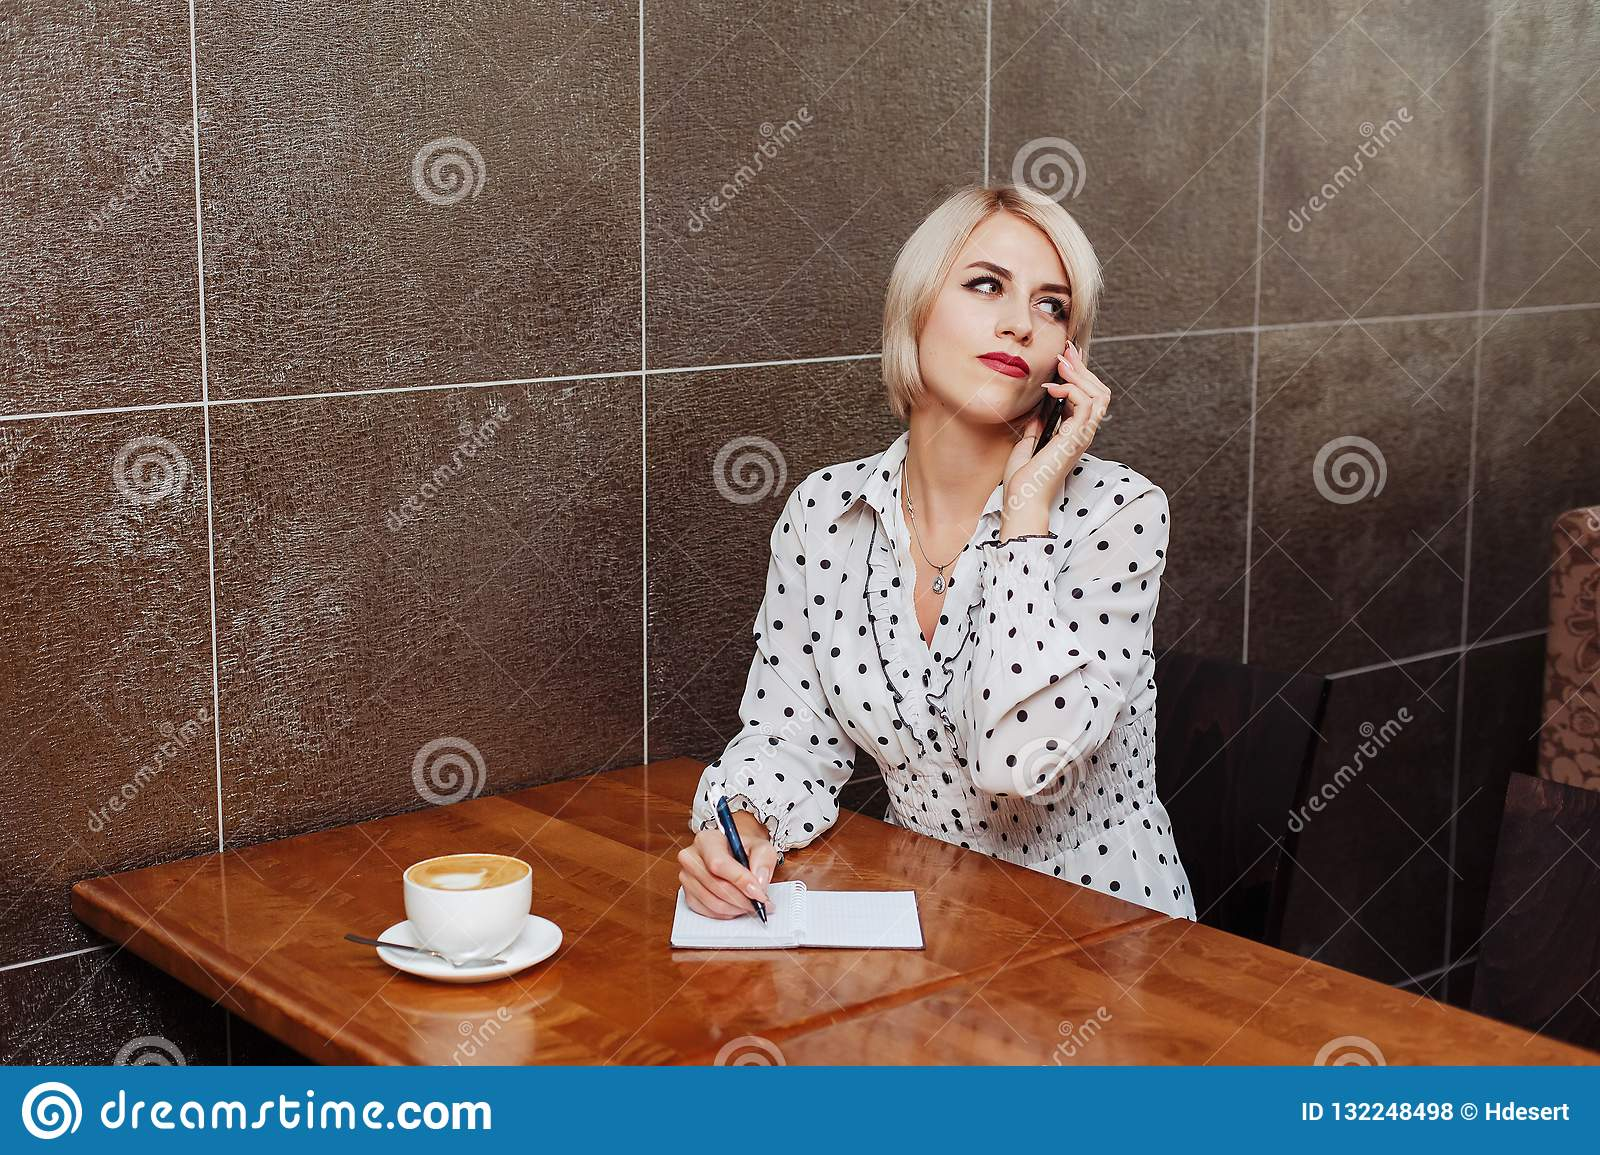phone: (1030, 343, 1076, 464)
talk: (943, 256, 1114, 513)
